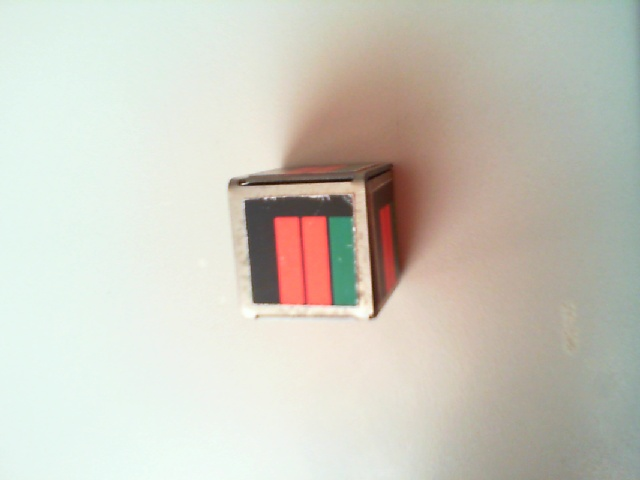square: (248, 197, 358, 306)
